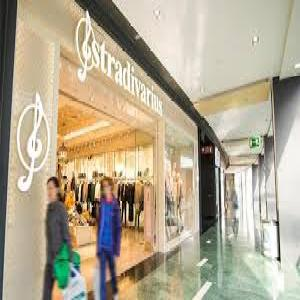stradivarius: (77, 11, 181, 123)
